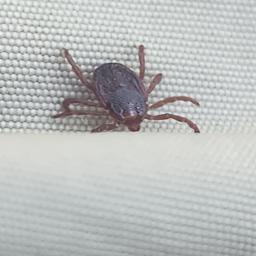Rhipicephalus sanguineus: (50, 44, 201, 150)
